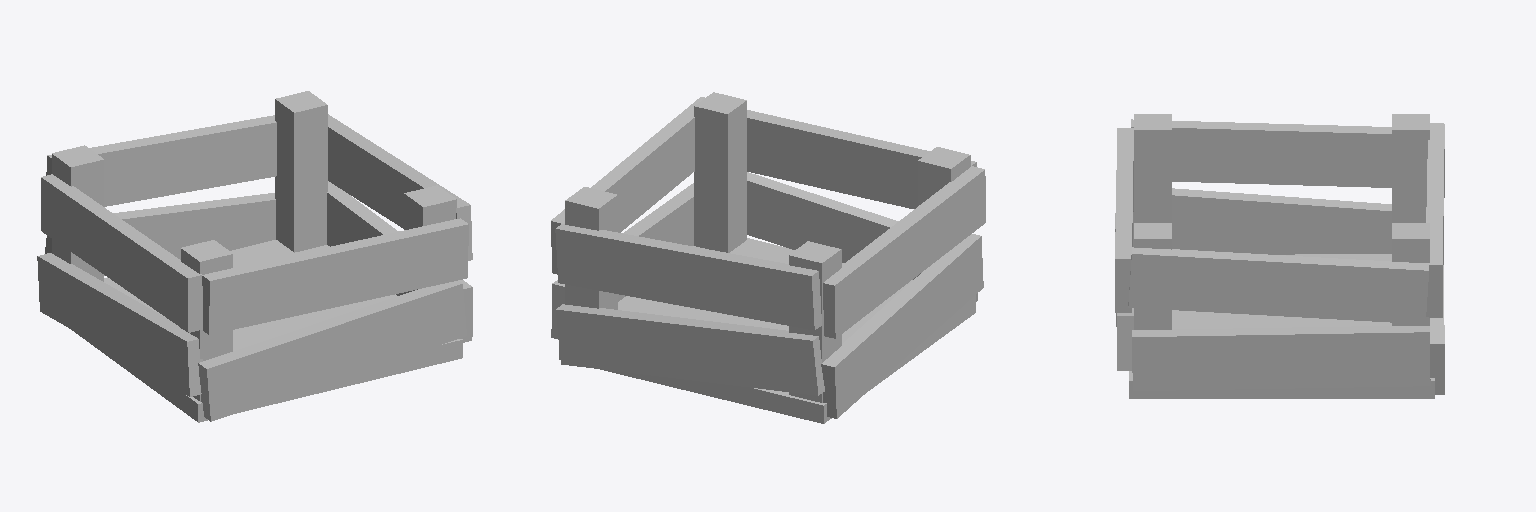
Rendered from crate.obj.
3 views of the same model, side by side, from view 1: azimuth 30°, elevation 25°; view 2: azimuth 150°, elevation 25°; view 3: azimuth 270°, elevation 25° (orthographic).
Visible parts, largest first — view 1: Cube.006; view 2: Cube.006; view 3: Cube.006.
Boxes of the visible parts, <box> form: Cube.006: <box>37,91,472,422</box>; Cube.006: <box>551,92,985,423</box>; Cube.006: <box>1115,114,1444,398</box>.
Bounding box in the file's own units: 1.92 × 1.02 × 1.92.